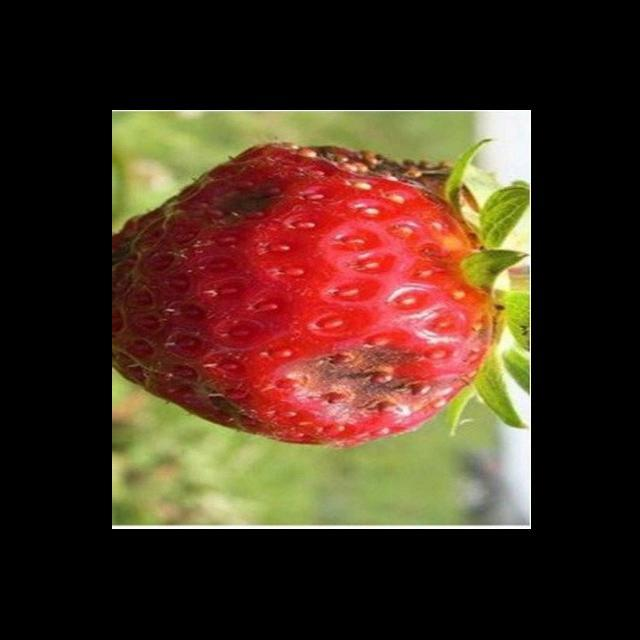Anthracnose Fruit Rot: (197, 140, 490, 430)
